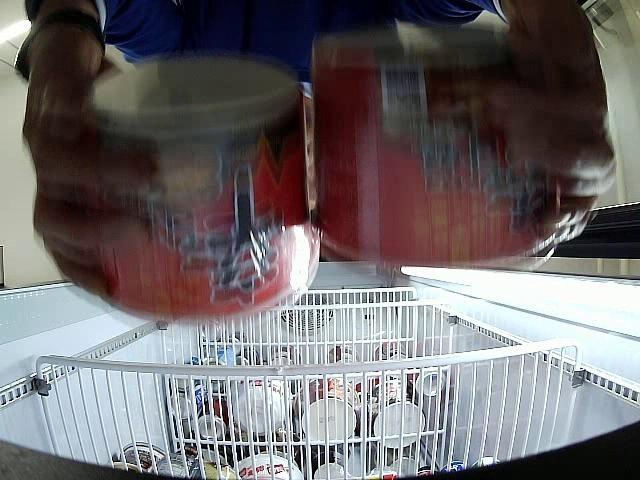01_ShinRamen_L: (86, 60, 322, 324), (314, 31, 571, 269)
